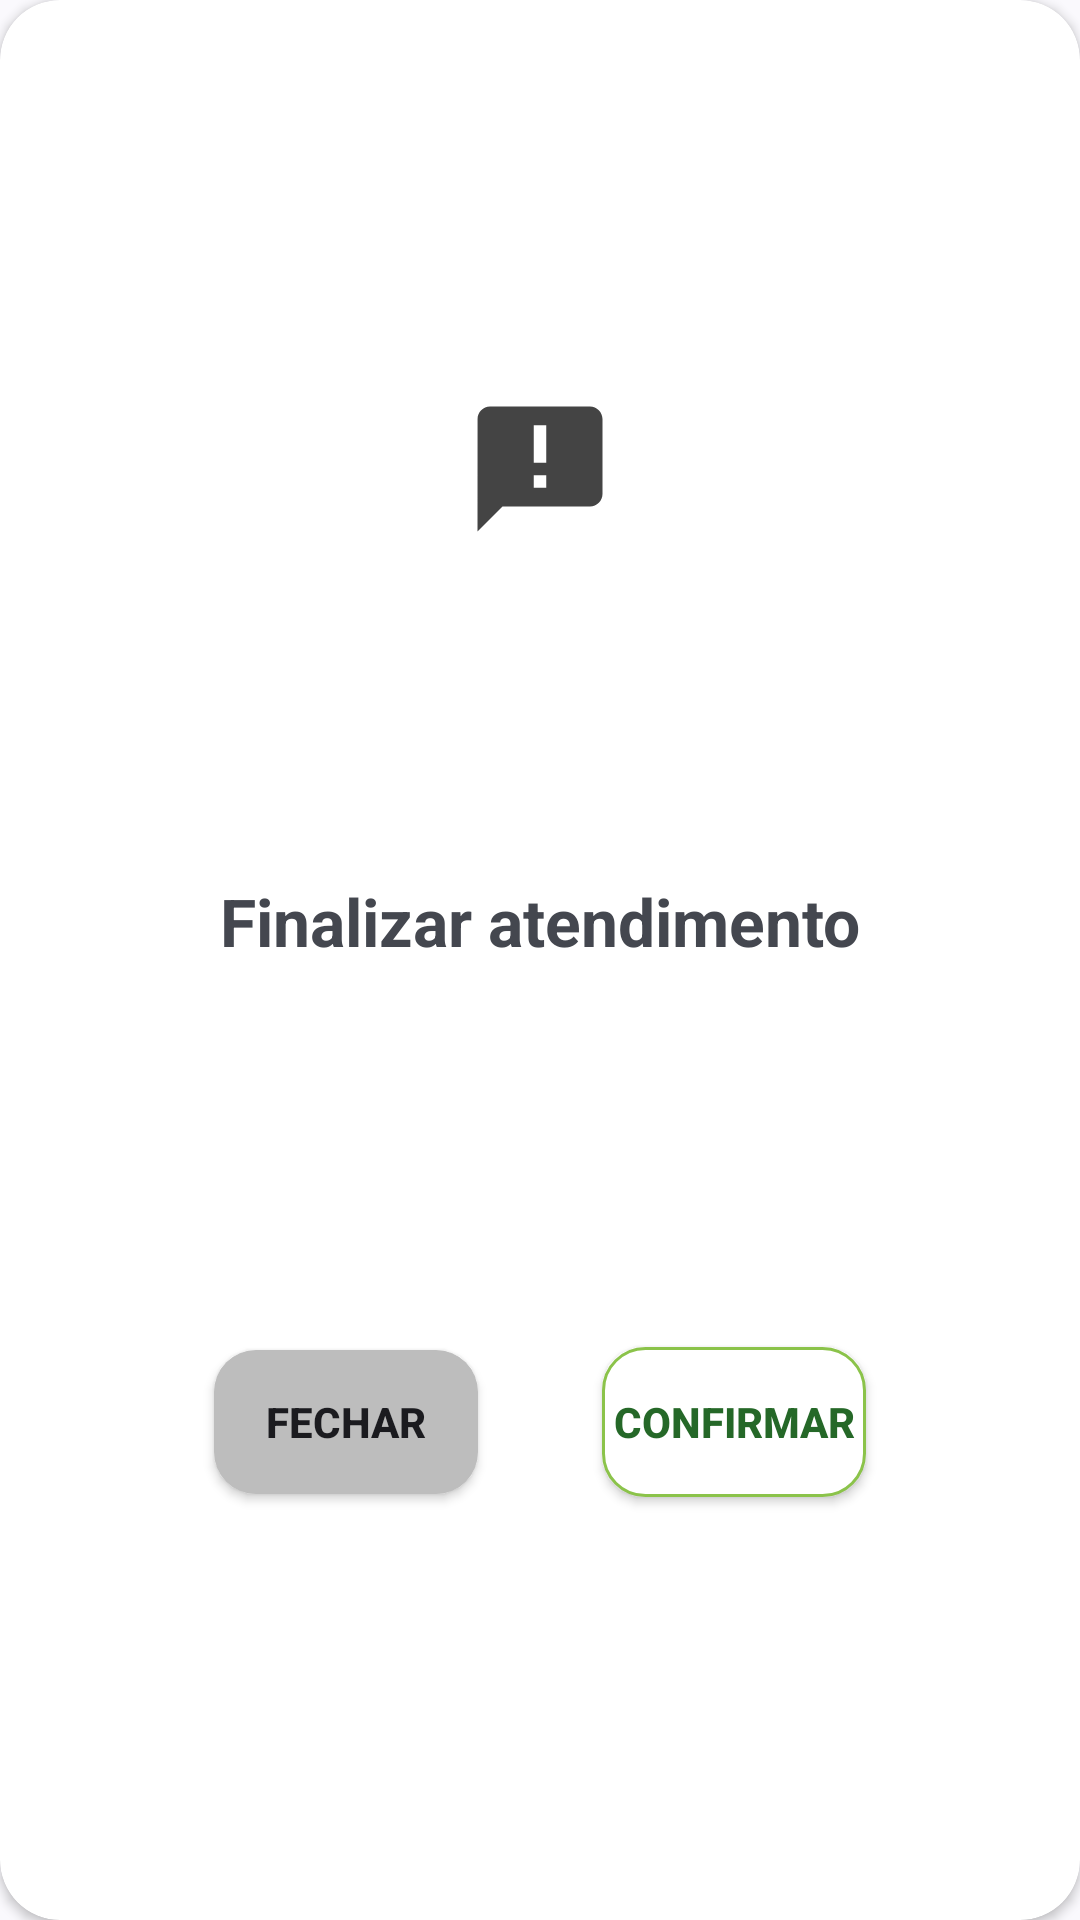

Screen size 1080px×1920px. Icon name, then its center in pixels as [x,y]:
announcement: [540,468]
